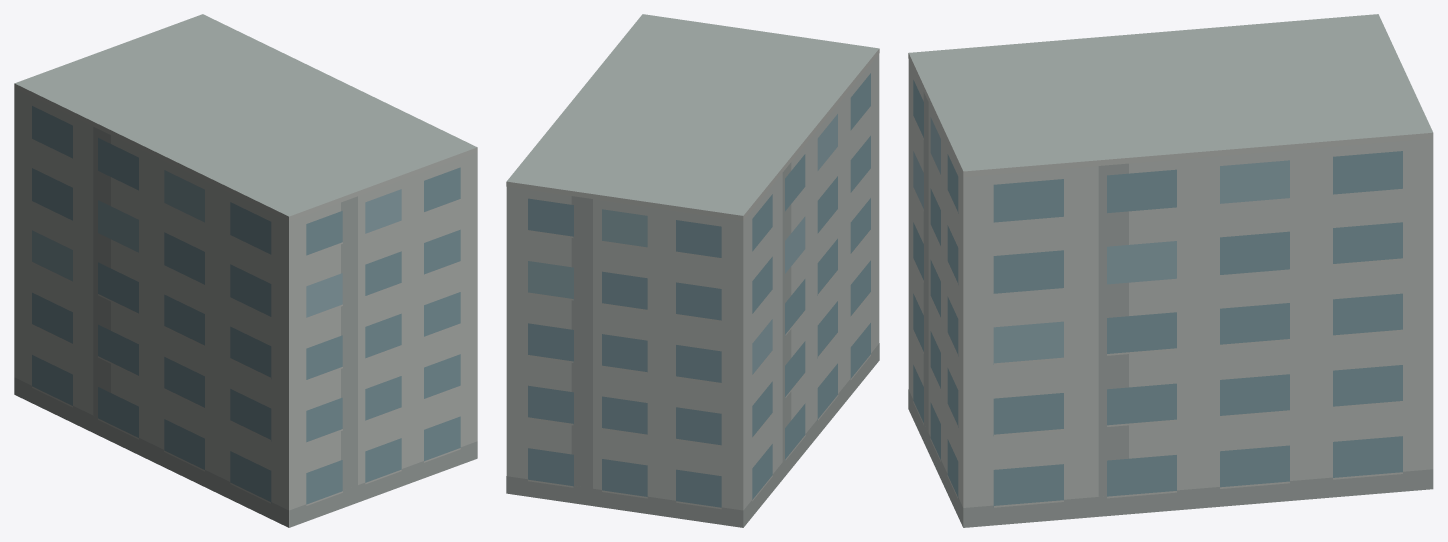
Rendered from residential-dc7262b7-779e-41e2-927a-7e57baad6cae.glb.
3 views of the same model, side by side, from view 1: azimuth 30°, elevation 25°; view 2: azimuth 150°, elevation 25°; view 3: azimuth 270°, elevation 25° (orthographic). The views are drawn at different scales.
Visible parts, largest first — view 1: residential-dc7262b7-779e-41e2-927a-7e57baad6cae.tmp; view 2: residential-dc7262b7-779e-41e2-927a-7e57baad6cae.tmp; view 3: residential-dc7262b7-779e-41e2-927a-7e57baad6cae.tmp.
Part boxes in pixels (x1,y1,x2,y2): residential-dc7262b7-779e-41e2-927a-7e57baad6cae.tmp: (14,14,477,527); residential-dc7262b7-779e-41e2-927a-7e57baad6cae.tmp: (506,14,879,527); residential-dc7262b7-779e-41e2-927a-7e57baad6cae.tmp: (908,14,1433,527).
Size of the model in its own units: 14.46 by 15.25 by 20.36.
